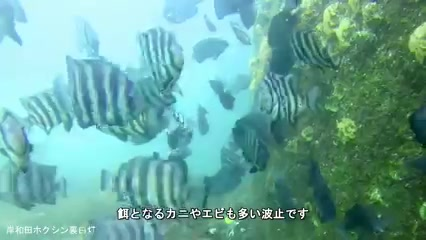ishidai: (62, 57, 154, 124), (115, 161, 201, 209), (136, 35, 188, 97), (287, 30, 336, 81), (22, 91, 71, 132), (260, 74, 301, 123)
